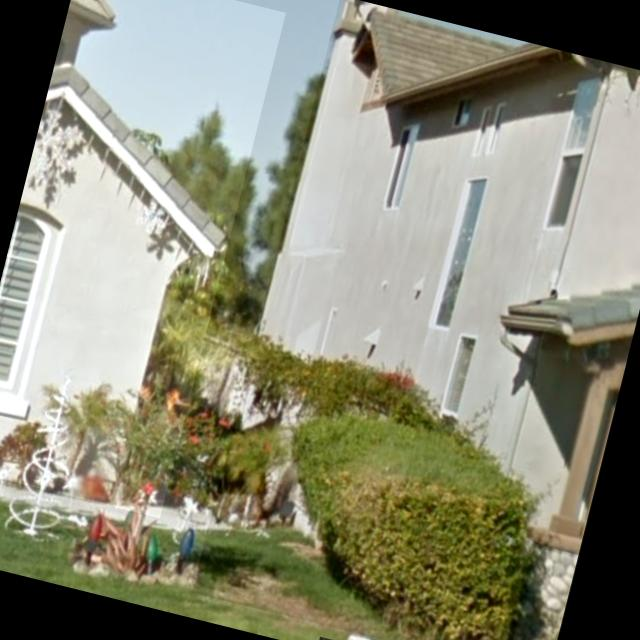House: (191, 0, 640, 640), (0, 0, 285, 518)
